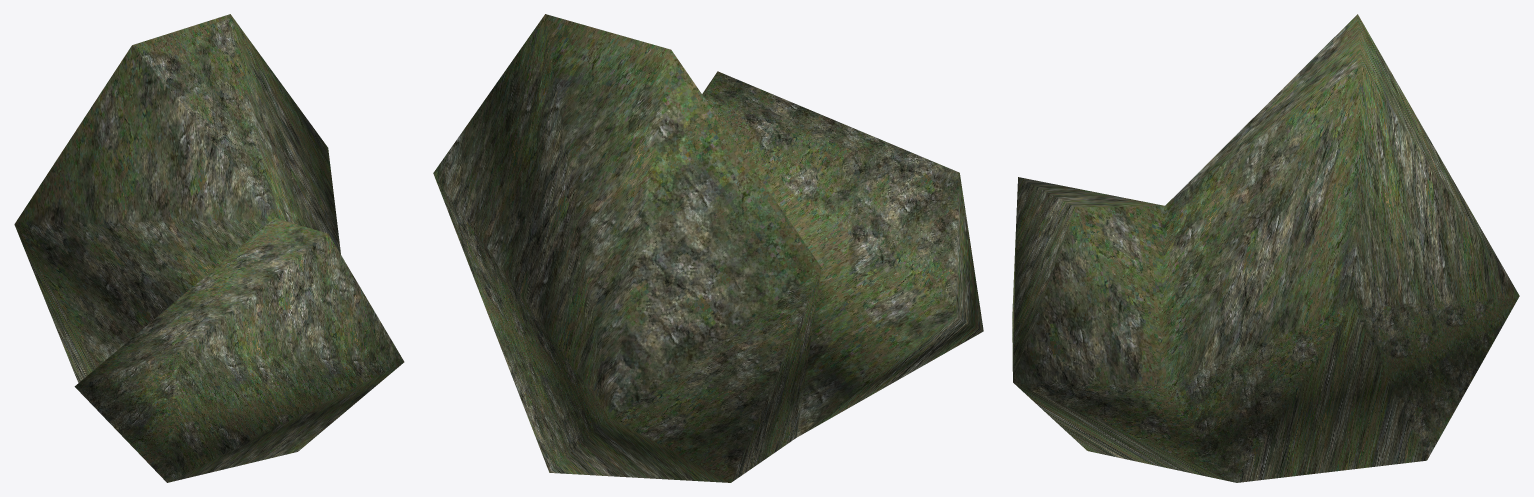
File: mtns_rock_moss_l3.fbx
3 views of the same model, side by side, from view 1: azimuth 30°, elevation 25°; view 2: azimuth 150°, elevation 25°; view 3: azimuth 270°, elevation 25° (orthographic). The views are drawn at different scales.
Visible parts, largest first — view 1: mesh_node; view 2: mesh_node; view 3: mesh_node.
Boxes of the visible parts, <box> form: mesh_node: <box>14,14,404,482</box>; mesh_node: <box>433,14,983,482</box>; mesh_node: <box>1012,14,1519,482</box>.
Bounding box in the file's own units: 2.68 × 2.63 × 2.9.
